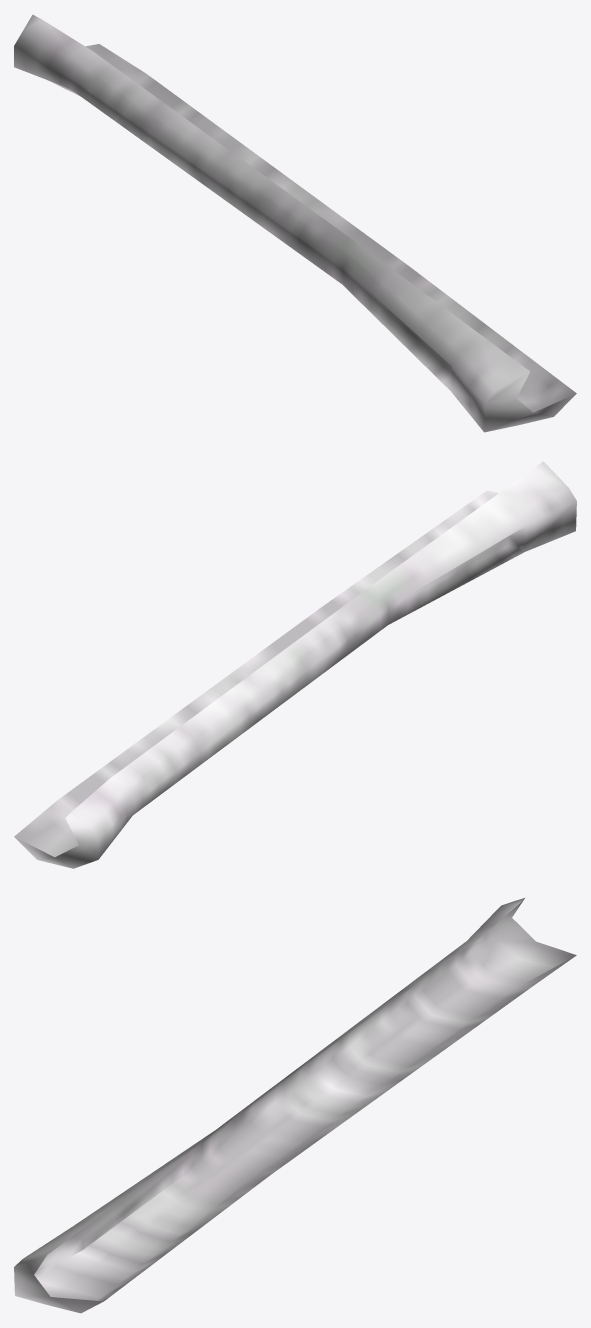
The picture shows the model from 3 angles, top to bottom: view 1: azimuth 30°, elevation 25°; view 2: azimuth 150°, elevation 25°; view 3: azimuth 330°, elevation 25°; orthographic projection.
Parts seen in each view (by area): view 1: wg_l_c_s; view 2: wg_l_c_s; view 3: wg_l_c_s.
Part boxes in pixels (x1,y1,x2,y2): wg_l_c_s: [14, 14, 576, 432]; wg_l_c_s: [14, 461, 576, 868]; wg_l_c_s: [14, 898, 576, 1313].
Bounding box in the file's own units: 0.2437 × 0.1446 × 2.22.
1 material, 1 textured.
